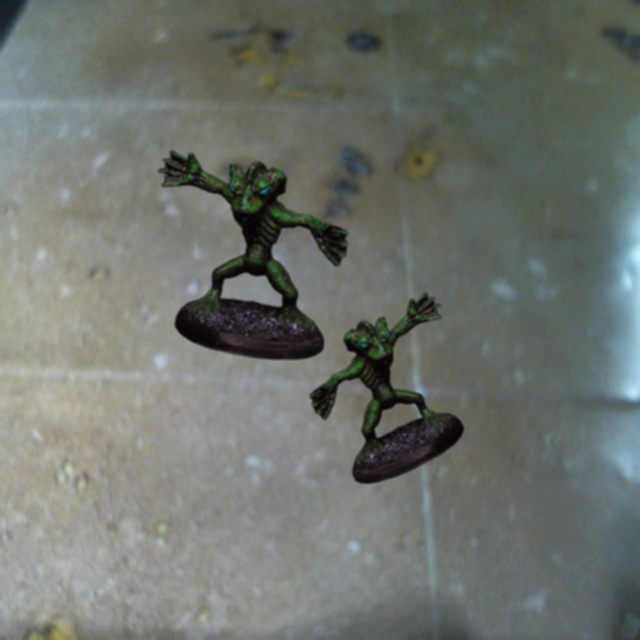pieza_juego: (158, 150, 347, 359), (309, 292, 463, 483)
